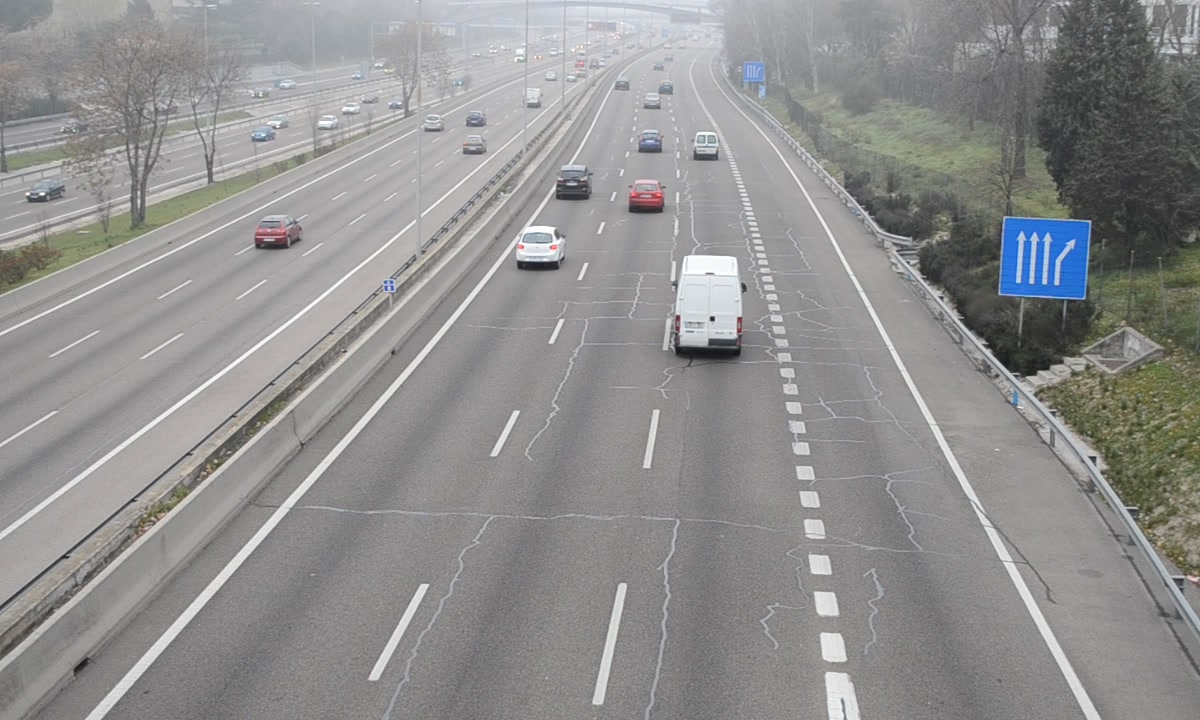car: (514, 227, 562, 264), (554, 165, 592, 201), (629, 179, 665, 214), (638, 128, 664, 155)
van: (674, 255, 745, 359), (693, 131, 721, 161)
